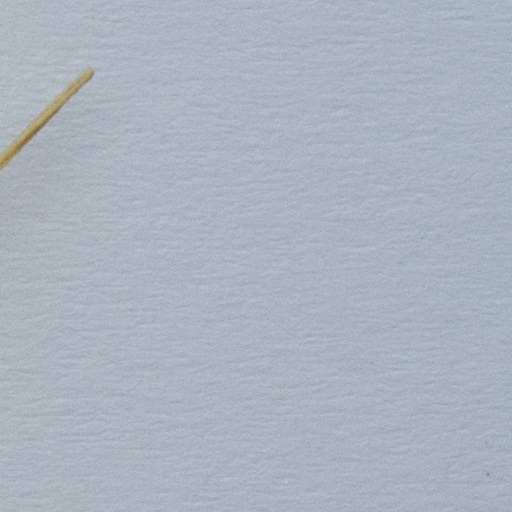Peel-poly: (0, 74, 83, 172)
